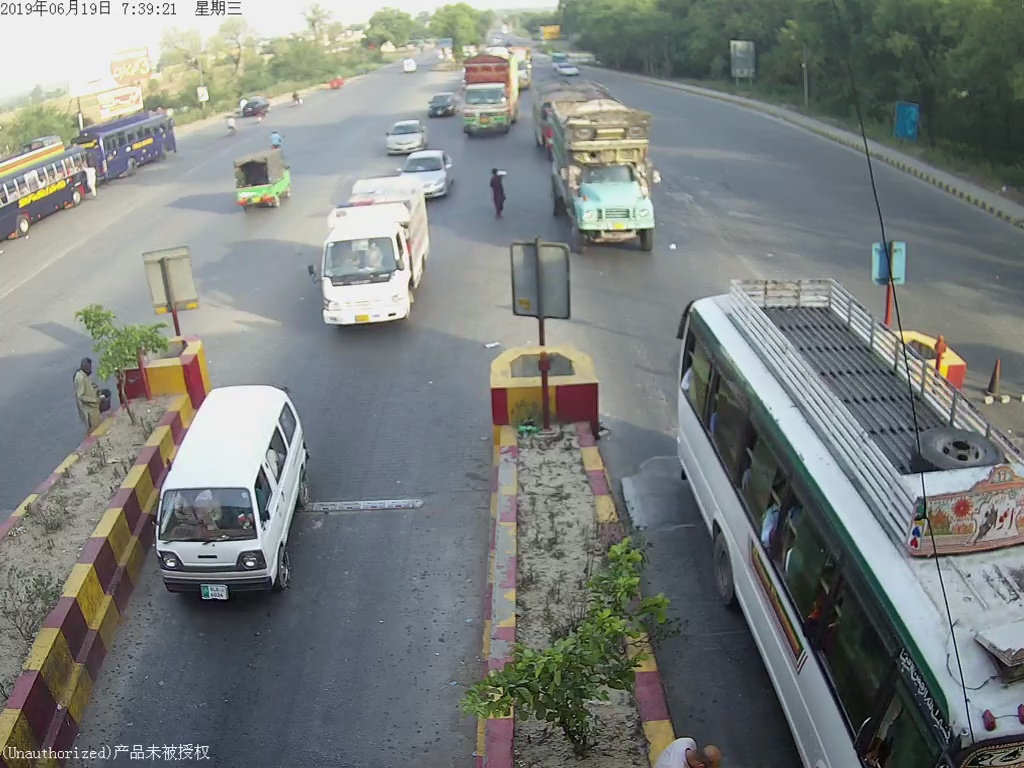Cat-1: (139, 373, 317, 603)
Cat-2: (315, 174, 433, 339)
Cat-3: (685, 293, 1024, 767)
Cat-4: (537, 84, 660, 245), (454, 43, 529, 138)
